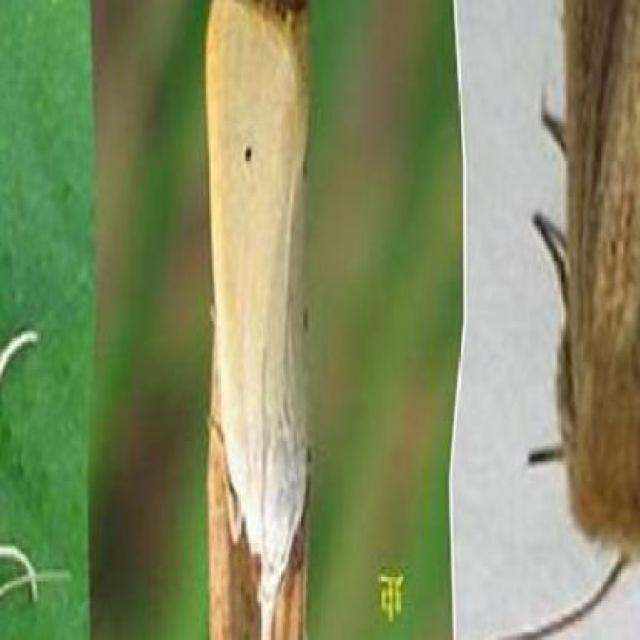stem-borer: (202, 0, 312, 640)
